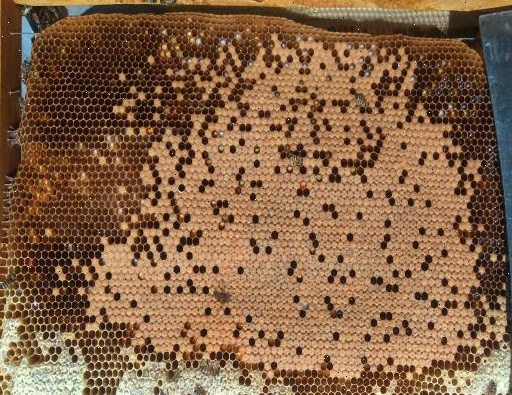cria: (29, 29, 507, 381)
